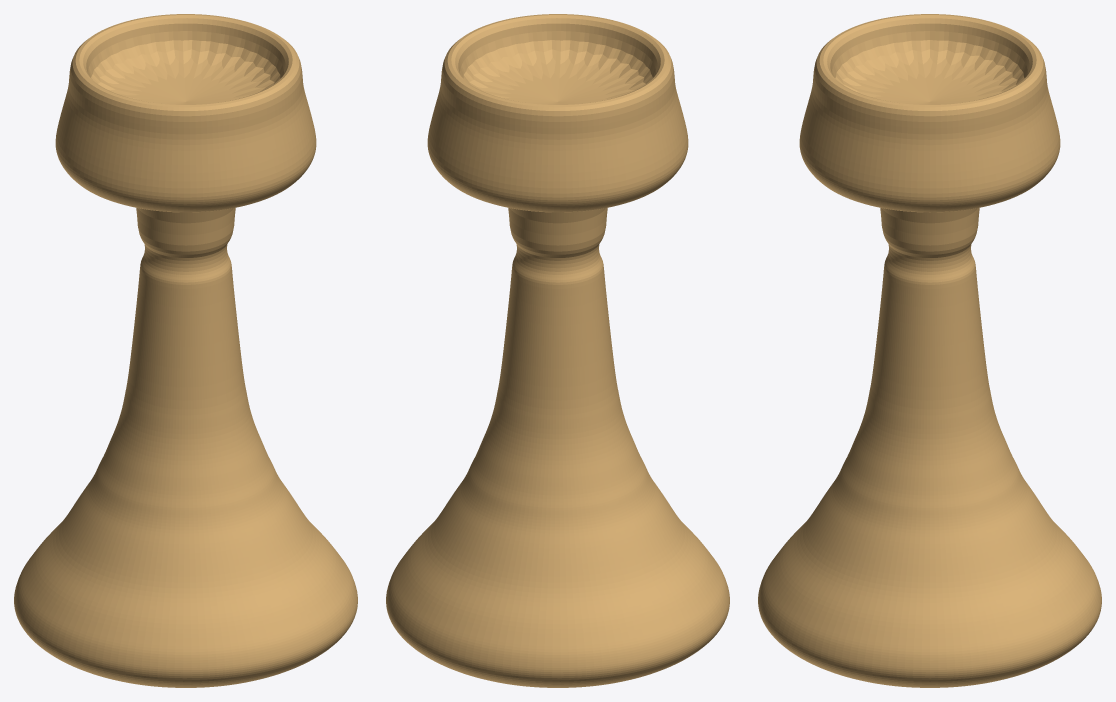
The model's file is Rook.fbx.
3 views of the same model, side by side, from view 1: azimuth 30°, elevation 25°; view 2: azimuth 150°, elevation 25°; view 3: azimuth 270°, elevation 25° (orthographic).
Parts seen in each view (by area): view 1: Rook; view 2: Rook; view 3: Rook.
Boxes of the visible parts, <box> form: Rook: <box>14,14,357,687</box>; Rook: <box>386,14,729,687</box>; Rook: <box>758,14,1101,687</box>.
Bounding box in the file's own units: 178 × 337 × 178.
